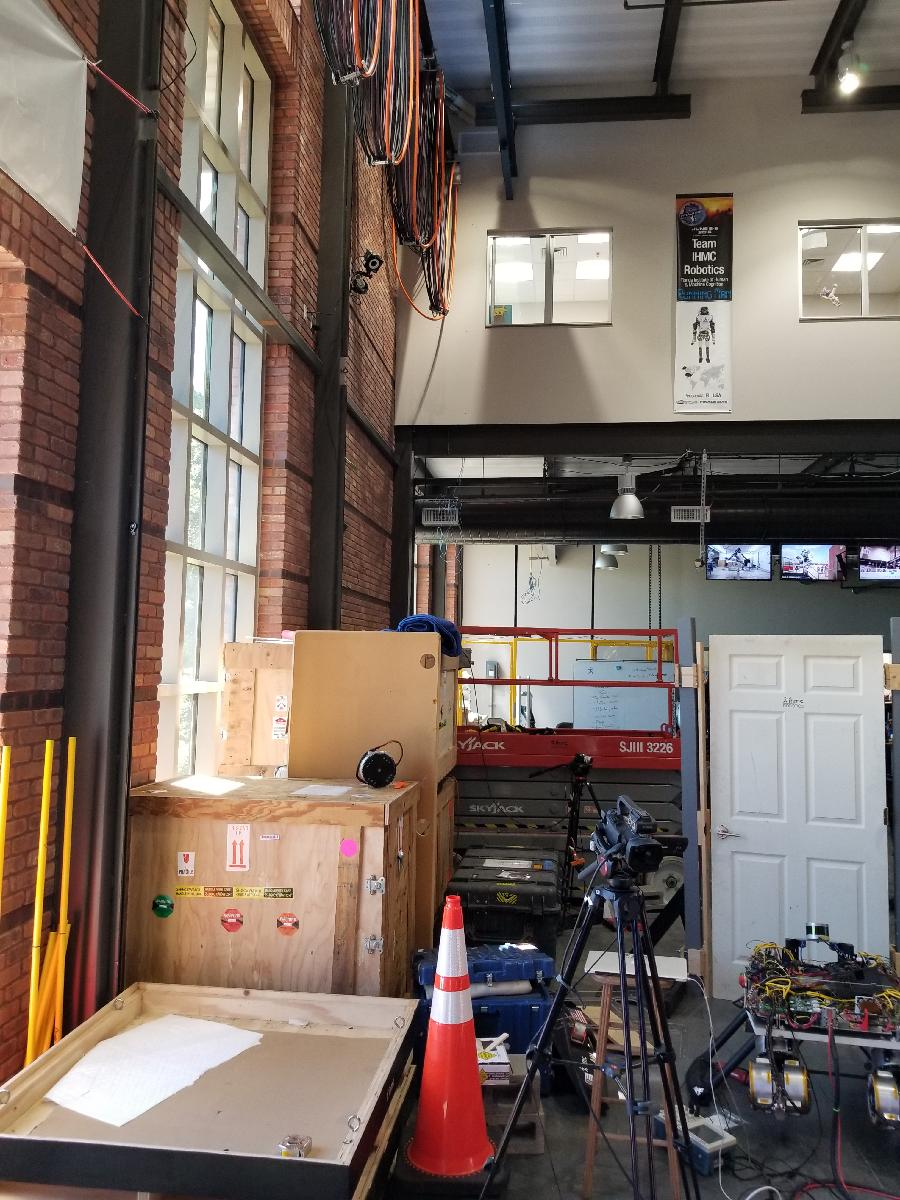door: (703, 630, 894, 1014)
doorHandle: (713, 824, 736, 846)
